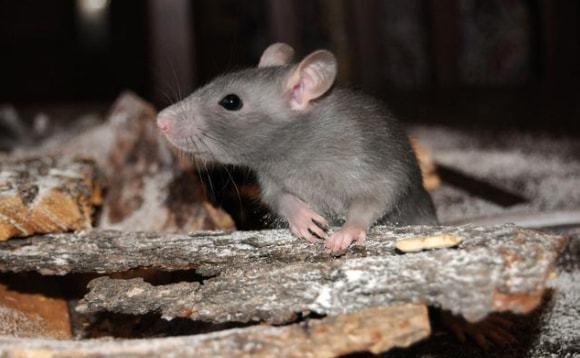rat: (133, 33, 452, 249)
